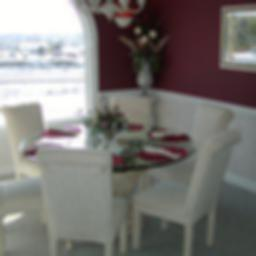Matera: (124, 31, 168, 95)
